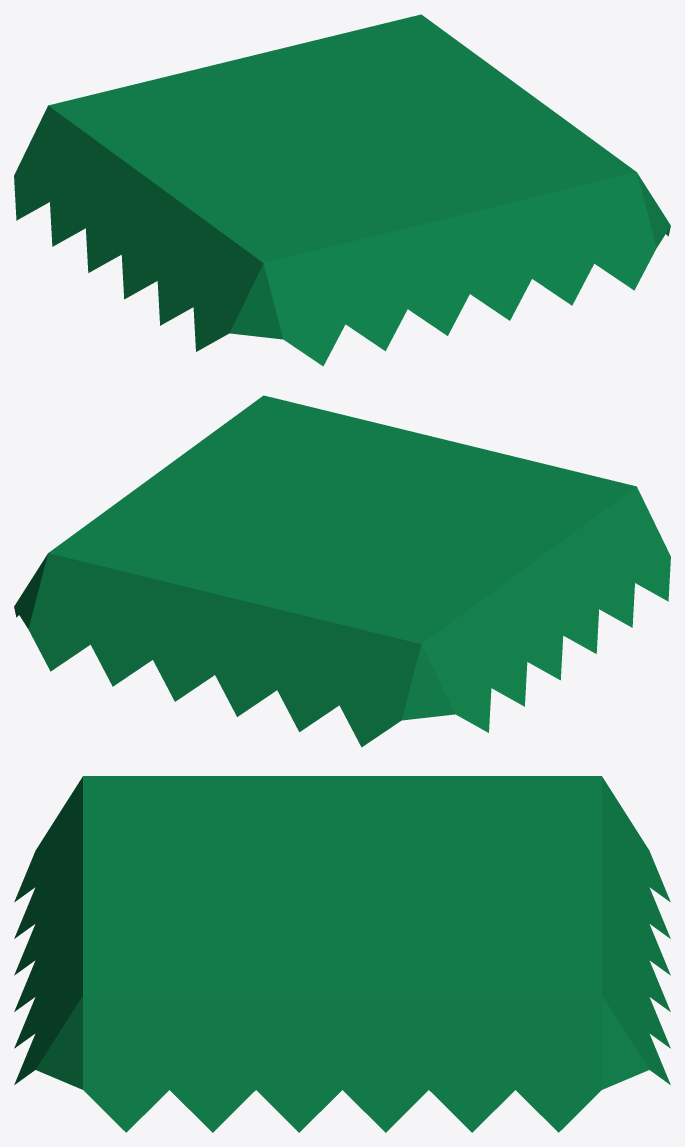
The model's file is groundGrass.glb.
The picture shows the model from 3 angles, top to bottom: view 1: azimuth 30°, elevation 25°; view 2: azimuth 150°, elevation 25°; view 3: azimuth 270°, elevation 25°; orthographic projection. The views are drawn at different scales.
Visible parts, largest first — view 1: groundGrass; view 2: groundGrass; view 3: groundGrass.
Part boxes in pixels (<box>): groundGrass: <box>14,14,670,366</box>; groundGrass: <box>14,395,670,747</box>; groundGrass: <box>14,776,670,1132</box>.
Size of the model in its own units: 1.27 by 0.2304 by 1.27.
